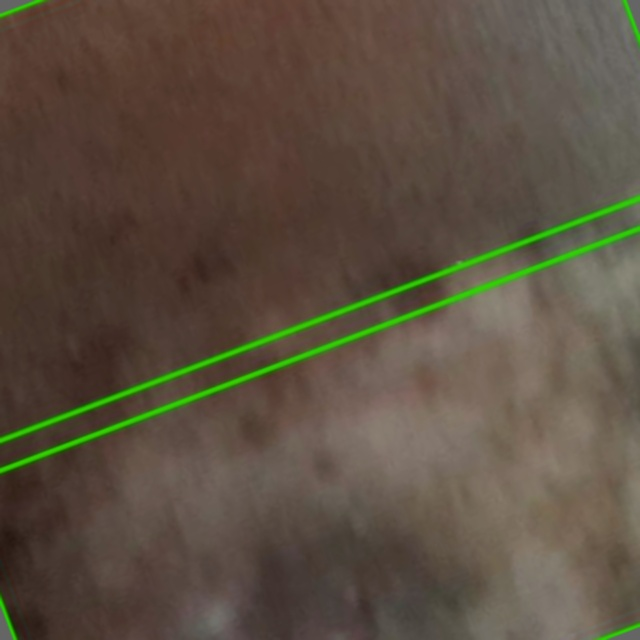Contact Dermatitis: (0, 0, 639, 470), (0, 198, 639, 639)
